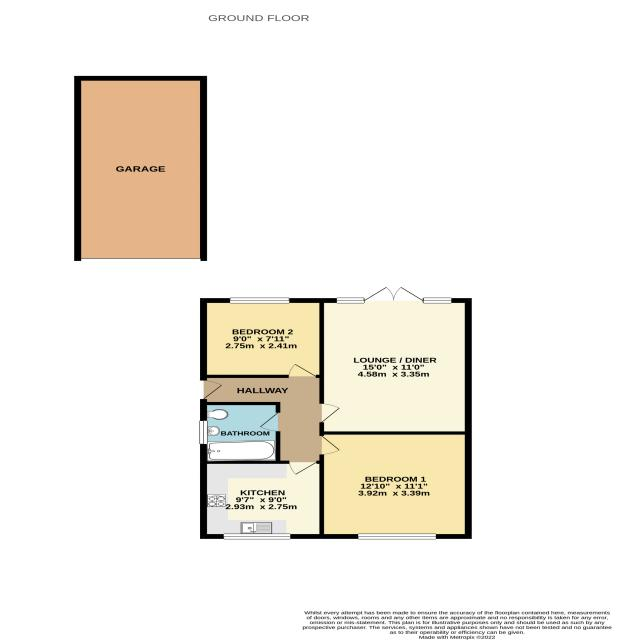DOOR: (258, 412, 282, 433), (199, 380, 224, 400), (287, 363, 317, 379), (318, 403, 342, 423), (318, 435, 342, 455), (288, 460, 318, 476)
DOUBLE DOOR: (363, 286, 424, 304)
ROOM: (319, 286, 472, 435), (319, 431, 472, 539), (200, 298, 324, 378), (199, 461, 325, 539)
WINDOW: (357, 533, 437, 540), (222, 533, 292, 540), (229, 297, 290, 304), (198, 420, 209, 445), (422, 297, 453, 304), (336, 297, 365, 304)
